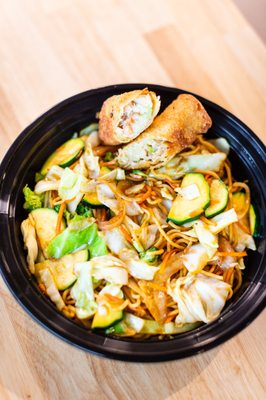curry: (45, 216, 107, 260), (22, 185, 44, 212)
sushi: (0, 83, 263, 387)
